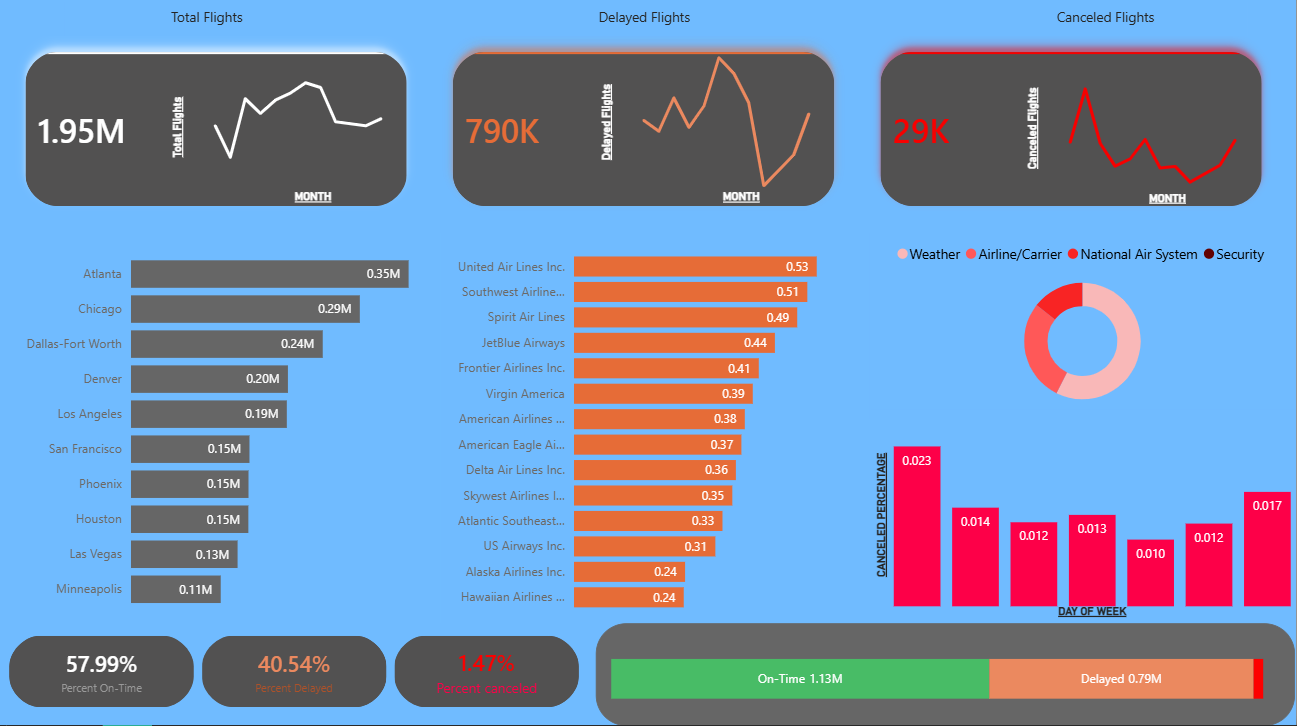

The page's visual inventory and layout, read from the dashboard file:
{"tool":"powerbi","page":{"name":"Page 1","canvas":[1280,720],"ordinal":0},"visuals":[{"type":"textbox","box":[71.6,10,279.3,33.6],"z":1000},{"type":"textbox","box":[500.6,10,279.3,33.6],"z":2000},{"type":"textbox","box":[953,10,279.3,33.6],"z":3000},{"type":"clusteredBarChart","fields":{"Y":["flights.Percent Delayed"],"Category":["airlines.AIRLINE"]},"box":[440.7,236.7,470.6,382.7],"z":5500},{"type":"clusteredBarChart","fields":{"Y":["airlines.Total Flights"],"Category":["airports.CITY"]},"box":[19.8,237,421,382.4],"z":8000},{"type":"donutChart","fields":{"Y":["flights.Canceled Flights"],"Category":["cancellation_codes.CANCELLATION_DESCRIPTION"]},"box":[861.8,237,418.4,182.2],"z":9000},{"type":"barChart","fields":{"Y":["airlines.Total Flights"],"Series":["flights.Status"]},"box":[593,619.3,686.4,100.7],"z":10000},{"type":"cardVisual","fields":{"Data":["airlines.Total Flights"]},"box":[0,27.2,440.7,217.6],"z":10500,"group":"g2"},{"type":"cardVisual","fields":{"Data":["flights.Delayed Flights"]},"box":[419.8,27.2,440.7,217.6],"z":10500,"group":"g1"},{"type":"cardVisual","fields":{"Data":["flights.Canceled Flights"]},"box":[839.7,27.2,440.7,217.6],"z":10500,"group":"g3"},{"type":"cardVisual","fields":{"Data":["flights.Percent On-Time","flights.Percent Delayed","flights.Percent canceled"]},"box":[0,615.7,593,104.3],"z":10500},{"type":"group","id":"g1","title":"Group 1","box":[419.8,27.2,441.6,217.6],"z":11000},{"type":"group","id":"g2","title":"Group 1","box":[0,27.2,440.7,217.6],"z":12000},{"type":"group","id":"g3","title":"Group 1","box":[839.7,27.2,440.7,217.6],"z":13000},{"type":"columnChart","fields":{"Y":["flights.Percent canceled"],"Category":["flights.DAY_OF_WEEK"]},"box":[862.7,410.3,417.5,209.2],"z":14000},{"type":"lineChart","fields":{"Y":["flights.Delayed Flights"],"Category":["flights.MONTH"]},"box":[593.1,46.1,268.4,166.9],"z":14500,"group":"g1"},{"type":"lineChart","fields":{"Category":["flights.MONTH"],"Y":["airlines.Total Flights"]},"box":[171.4,56,269.3,156.9],"z":14500,"group":"g2"},{"type":"lineChart","fields":{"Category":["flights.MONTH"],"Y":["flights.Canceled Flights"]},"box":[1011.4,56.2,268.4,156.9],"z":14500,"group":"g3"}]}

Visuals, with their boxes in screenshot pixels (x1, y1, x2, y2), scaled from the page's 1280x720 canvas onto the 1297x726 screenshot:
textbox: box(73, 10, 356, 44)
textbox: box(507, 10, 790, 44)
textbox: box(966, 10, 1249, 44)
clusteredBarChart - flights.Percent Delayed x airlines.AIRLINE: box(447, 239, 923, 625)
clusteredBarChart - airlines.Total Flights x airports.CITY: box(20, 239, 447, 625)
donutChart - flights.Canceled Flights x cancellation_codes.CANCELLATION_DESCRIPTION: box(873, 239, 1296, 423)
barChart - airlines.Total Flights x flights.Status: box(601, 624, 1296, 725)
cardVisual - airlines.Total Flights: box(0, 27, 447, 247)
cardVisual - flights.Delayed Flights: box(425, 27, 872, 247)
cardVisual - flights.Canceled Flights: box(851, 27, 1296, 247)
cardVisual - flights.Percent On-Time x flights.Percent Delayed: box(0, 621, 601, 725)
"Group 1" group: box(425, 27, 873, 247)
"Group 1" group: box(0, 27, 447, 247)
"Group 1" group: box(851, 27, 1296, 247)
columnChart - flights.Percent canceled x flights.DAY_OF_WEEK: box(874, 414, 1296, 625)
lineChart - flights.Delayed Flights x flights.MONTH: box(601, 46, 873, 215)
lineChart - flights.MONTH x airlines.Total Flights: box(174, 56, 447, 215)
lineChart - flights.MONTH x flights.Canceled Flights: box(1025, 57, 1296, 215)
